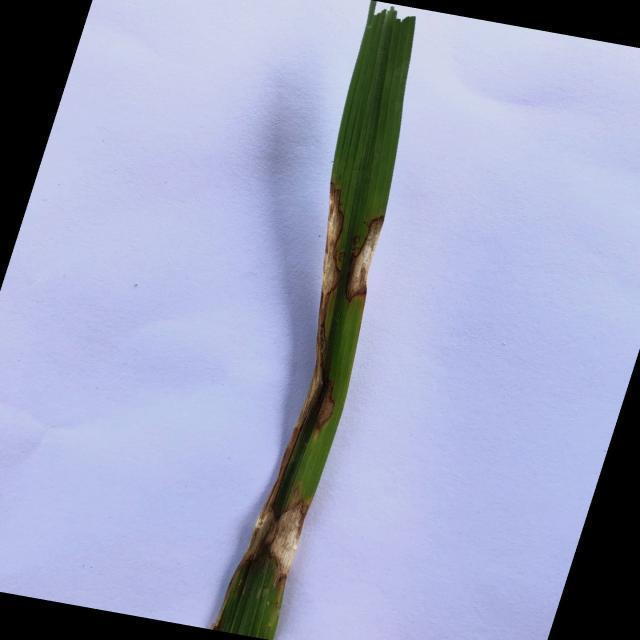Bacterial_Leaf_Blight: (296, 186, 345, 445), (246, 499, 309, 592), (349, 216, 389, 303)
